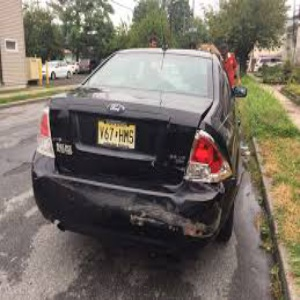bumper_scratch: (107, 191, 223, 250)
